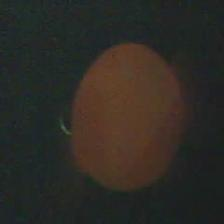fertile: (68, 41, 186, 196)
